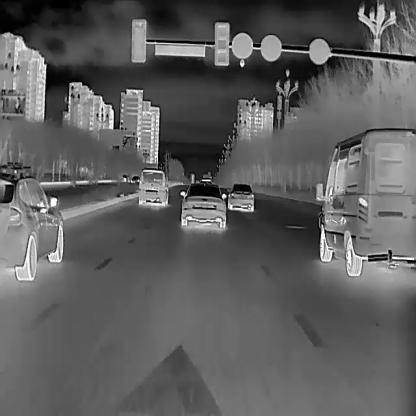car: (313, 126, 415, 278), (0, 168, 64, 281), (179, 181, 226, 228), (136, 166, 168, 206), (226, 182, 254, 210), (129, 175, 139, 183)
